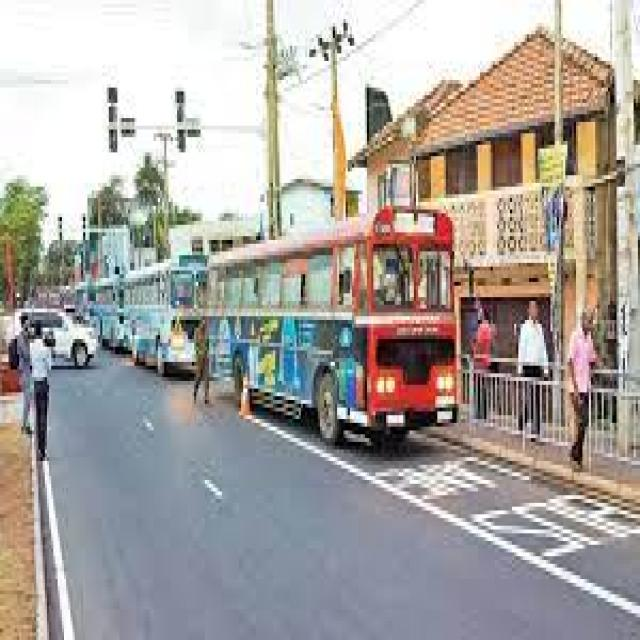bus: (205, 206, 454, 442), (124, 259, 205, 377), (87, 278, 128, 350)
car: (0, 309, 96, 370)
person: (518, 301, 546, 434), (30, 324, 49, 461), (570, 309, 595, 406), (471, 312, 491, 419), (15, 320, 30, 434), (194, 320, 207, 404), (572, 406, 587, 465)
